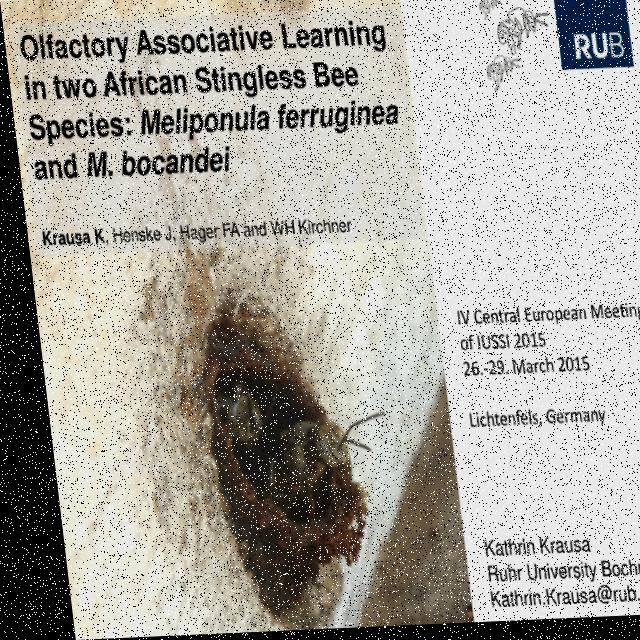Meliponula: (229, 402, 393, 563)
